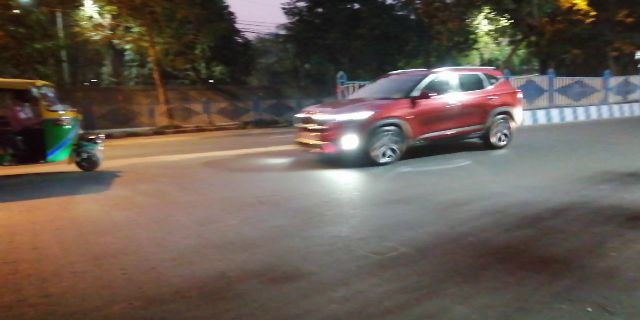Autorickshaw: (9, 77, 107, 177)
Car: (290, 65, 528, 166)
